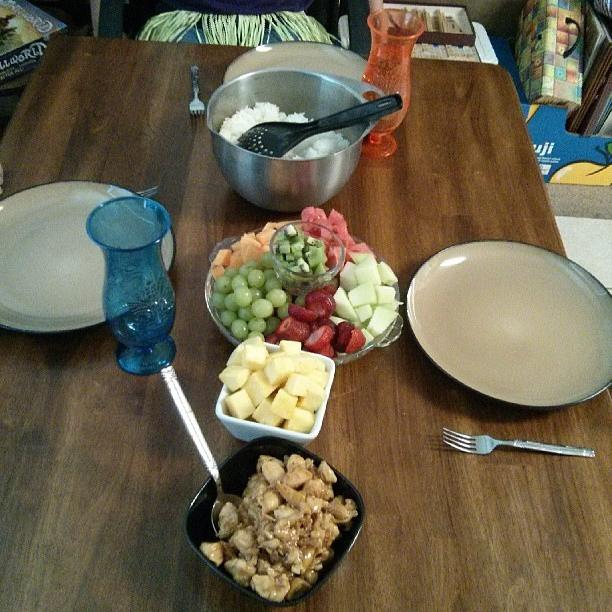grape: (252, 298, 274, 318), (266, 288, 287, 308), (234, 286, 252, 308), (262, 316, 280, 338), (215, 276, 234, 296), (230, 319, 248, 340), (212, 290, 230, 310), (247, 269, 265, 288), (247, 317, 266, 333), (224, 293, 240, 312), (238, 305, 256, 321), (264, 276, 282, 292), (232, 275, 248, 292), (220, 312, 236, 328), (239, 264, 252, 282), (250, 288, 262, 307), (223, 267, 240, 280), (261, 252, 274, 269), (278, 302, 290, 319), (248, 331, 265, 342), (264, 269, 277, 281), (295, 295, 306, 307), (284, 291, 292, 303)
pineapple: (240, 370, 282, 408), (295, 379, 328, 414), (252, 396, 286, 428), (225, 388, 256, 419), (268, 388, 298, 419), (263, 357, 294, 386), (219, 364, 251, 392), (284, 407, 315, 434), (240, 344, 266, 371), (286, 355, 315, 377), (244, 335, 270, 358), (284, 372, 308, 396), (308, 369, 331, 389), (226, 344, 245, 367), (312, 358, 326, 370)
strawberry: (304, 288, 336, 320), (276, 316, 310, 342), (305, 325, 333, 352), (288, 303, 320, 323), (336, 322, 355, 353), (317, 318, 338, 346), (346, 328, 366, 354), (265, 322, 279, 344), (322, 344, 336, 357), (323, 283, 336, 296)
watermelon: (344, 243, 376, 266), (325, 208, 348, 238), (302, 218, 321, 236), (328, 246, 341, 268), (340, 234, 357, 246), (322, 228, 332, 245)
